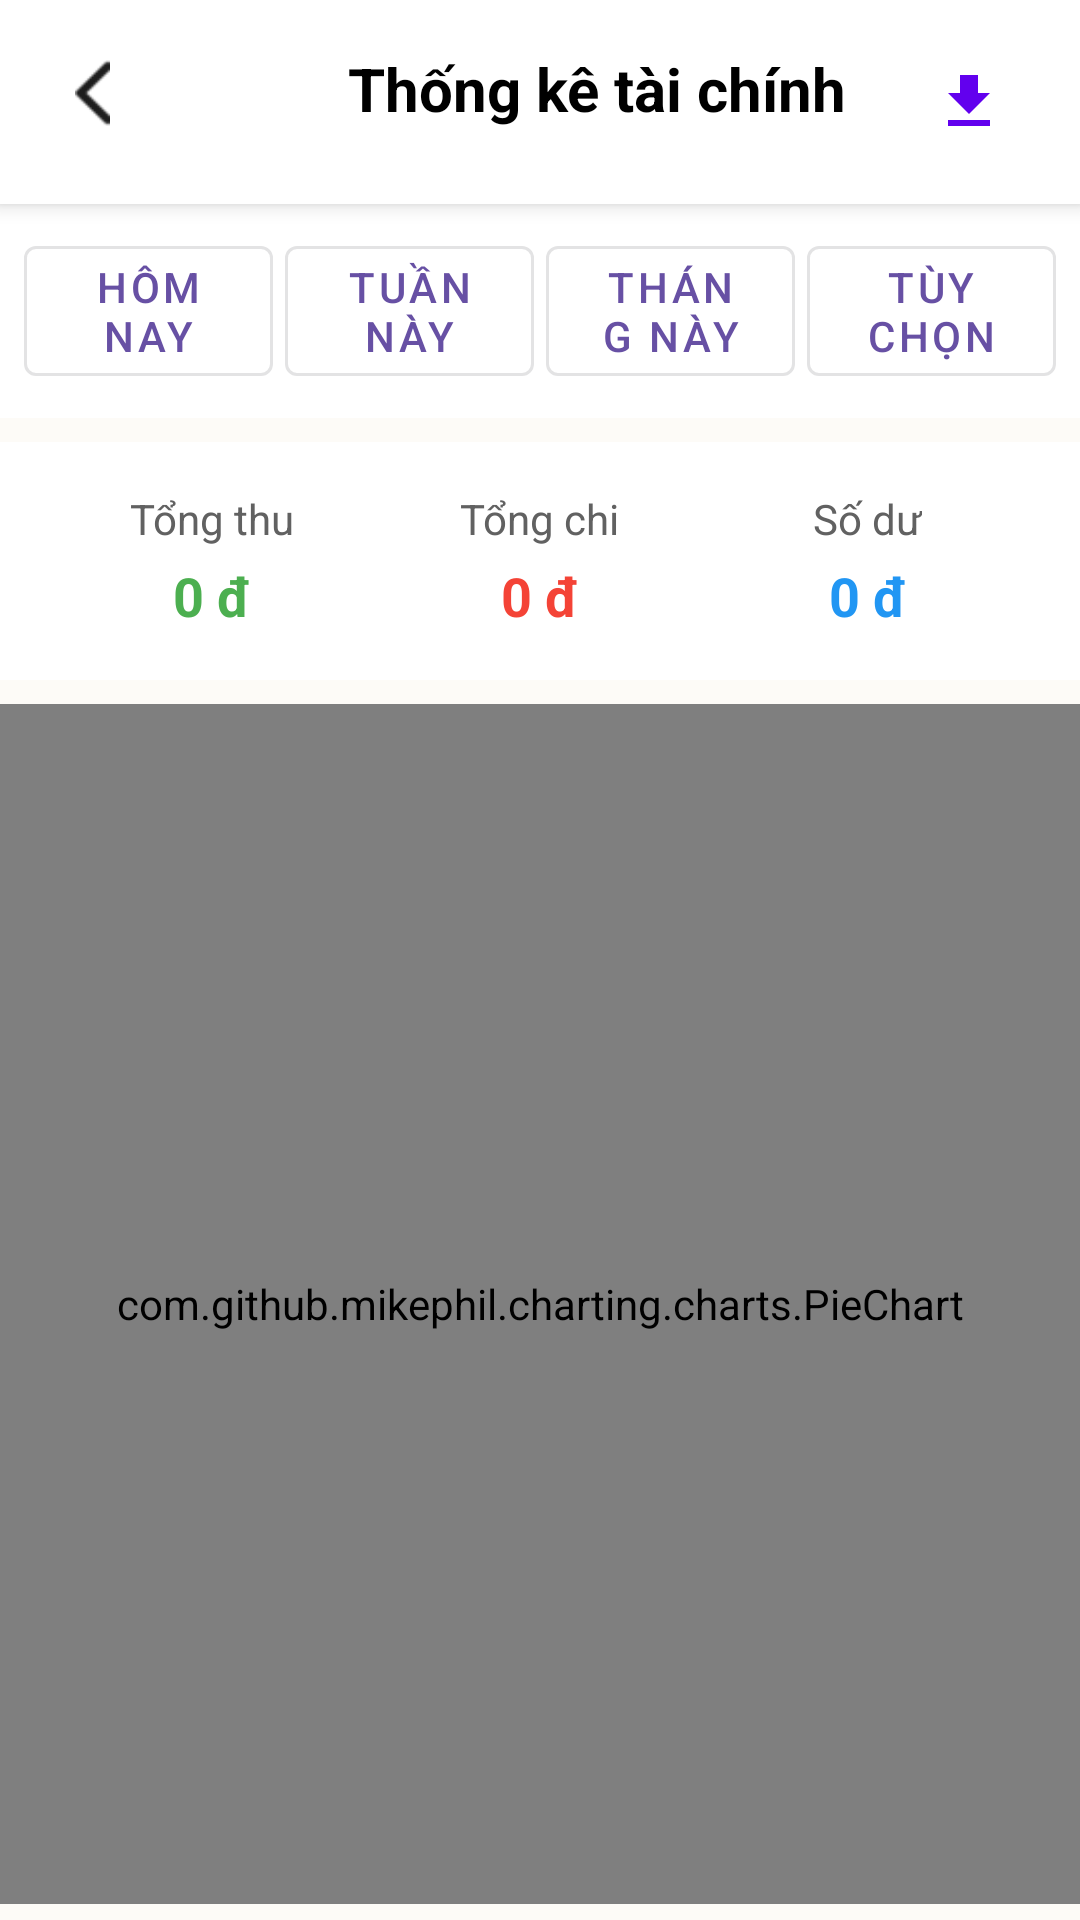

Point at icon controls on the screen. Image size 1080px x 1920px, points as point (x, y).
icreturn: point (92, 93)
Tải báo cáo: point (969, 100)
